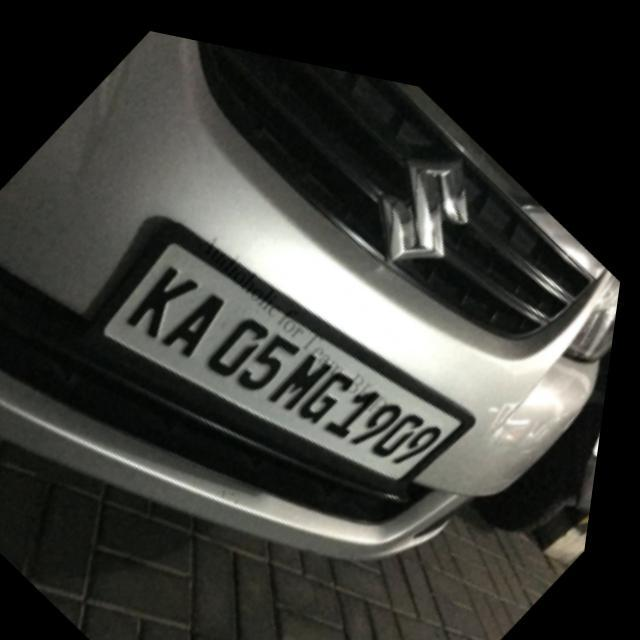license_plate: (78, 162, 490, 573)
